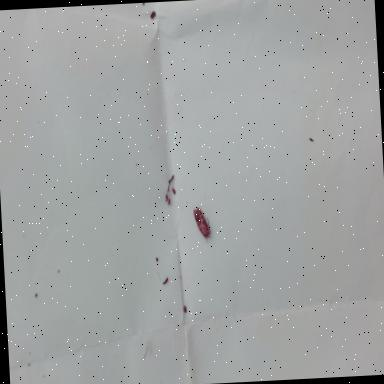pbw: (192, 206, 211, 242)
